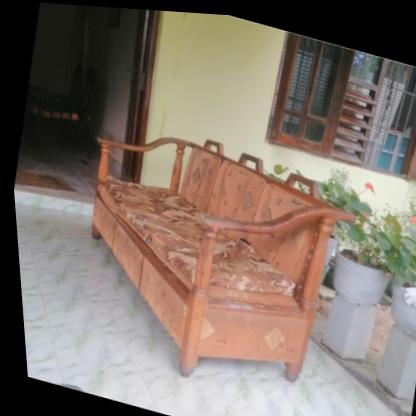Ceramic floor: (11, 184, 407, 416)
Sofa: (47, 105, 372, 413)
